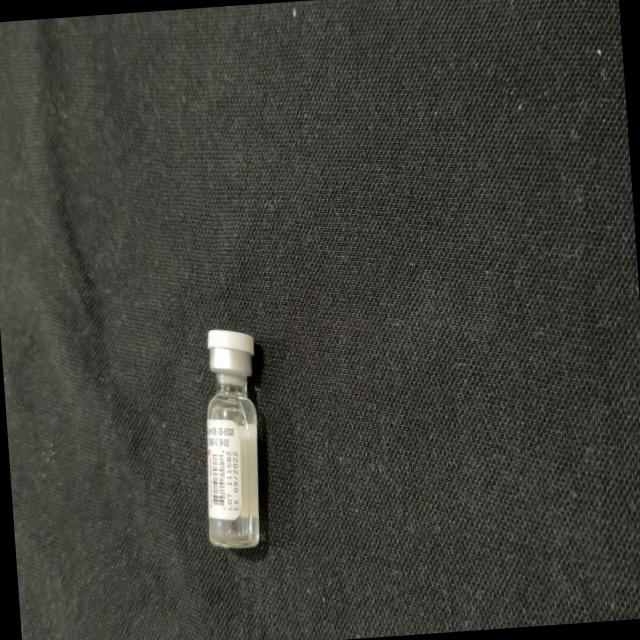fentanl_citrat: (195, 331, 267, 547)
